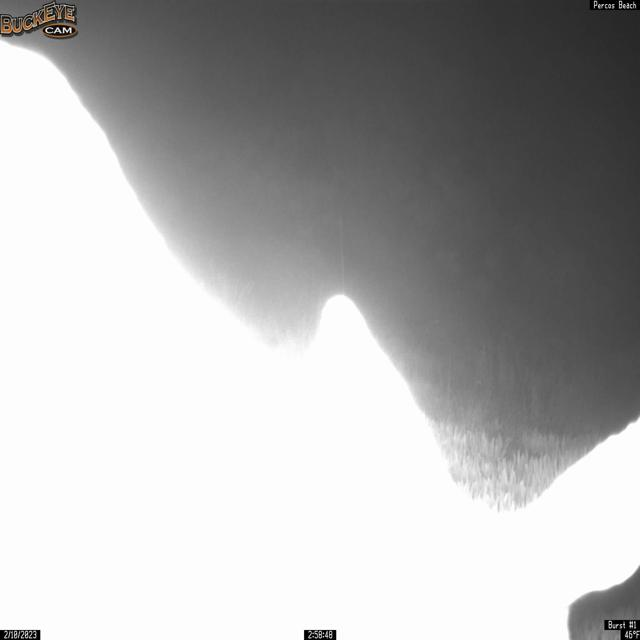deer: (1, 30, 637, 640)
